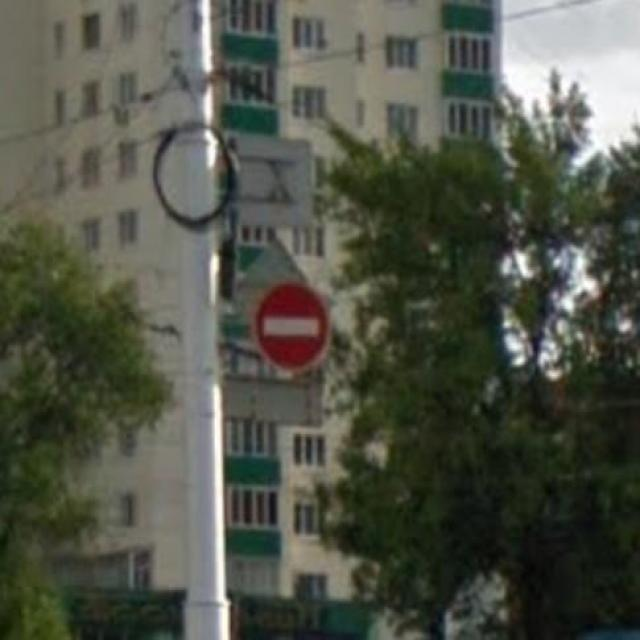Zakaz wjazdu: (249, 275, 334, 376)
